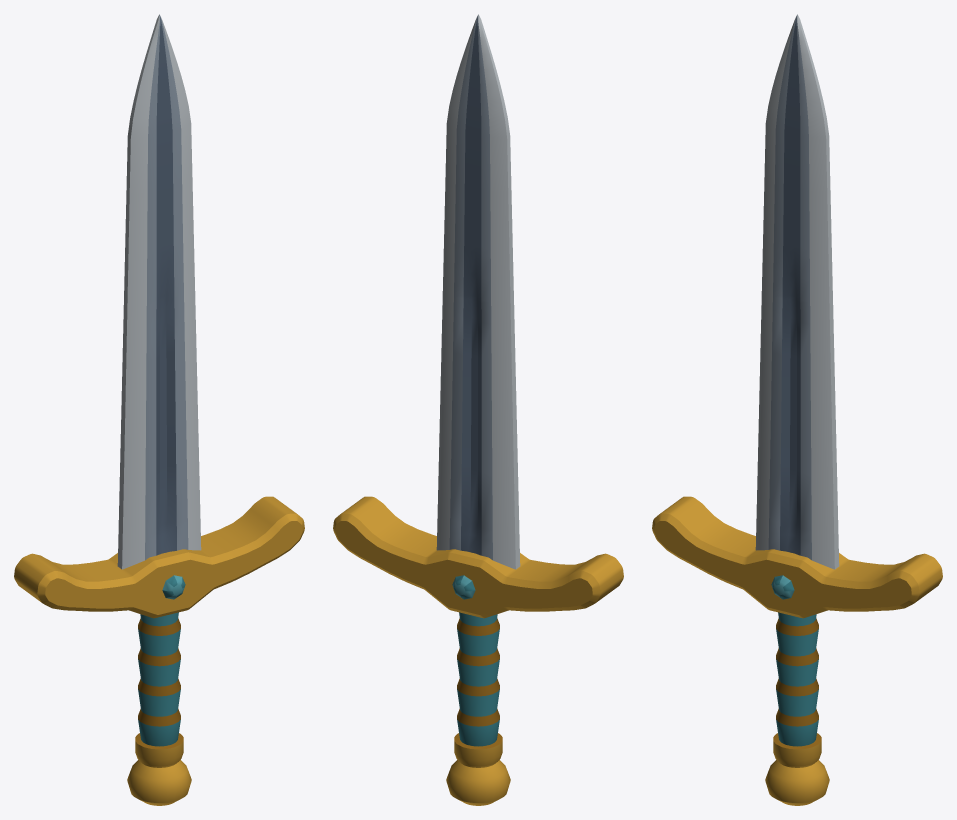
File: Longsword_11.glb
3 renders of one model, left to right at view 1: azimuth 30°, elevation 25°; view 2: azimuth 150°, elevation 25°; view 3: azimuth 330°, elevation 25°, orthographic.
Parts seen in each view (by area): view 1: Longsword_11; view 2: Longsword_11; view 3: Longsword_11.
Boxes of the visible parts, box(x1,y1,x2,y2) form: Longsword_11: box(14, 14, 304, 805); Longsword_11: box(333, 14, 623, 805); Longsword_11: box(652, 14, 942, 805).
Bounding box in the file's own units: 2.46 × 6.91 × 0.5748.
